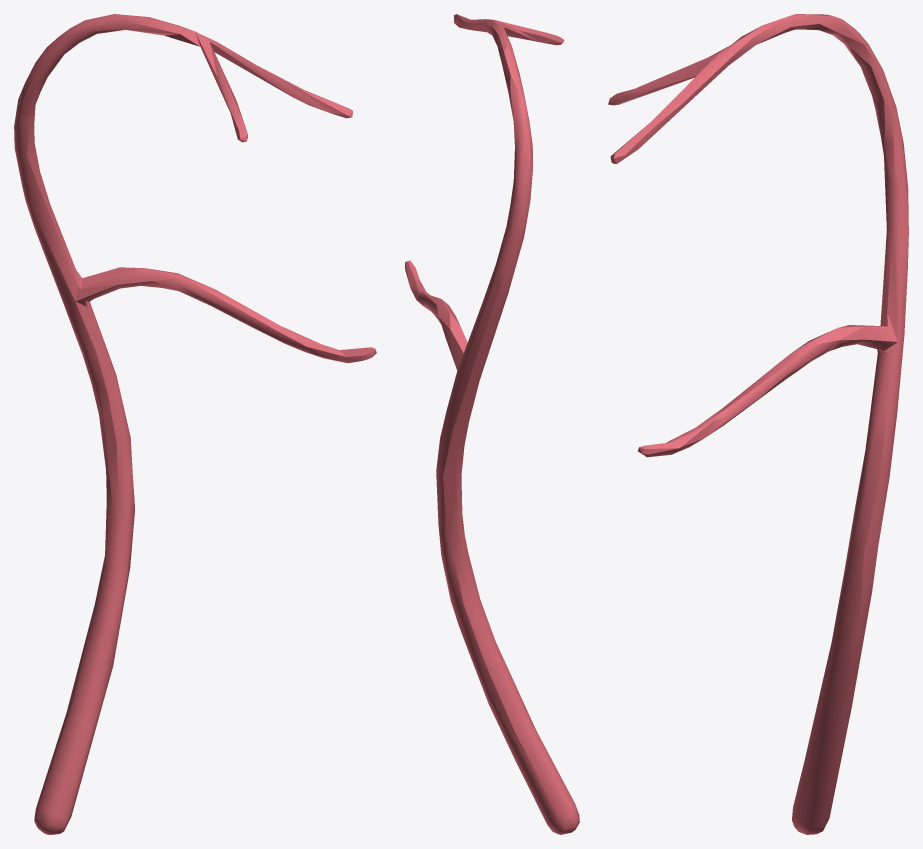
The model's file is fma49629_fj5188.glb.
The picture shows the model from 3 angles, left to right: view 1: azimuth 30°, elevation 25°; view 2: azimuth 150°, elevation 25°; view 3: azimuth 270°, elevation 25°; orthographic projection. The views are drawn at different scales.
Parts seen in each view (by area): view 1: FMA49629_FJ5188; view 2: FMA49629_FJ5188; view 3: FMA49629_FJ5188.
Part boxes in pixels (bbox=[...]): FMA49629_FJ5188: bbox=[14, 14, 376, 834]; FMA49629_FJ5188: bbox=[405, 14, 579, 834]; FMA49629_FJ5188: bbox=[608, 14, 908, 834].
Size of the model in its own units: 0.0129 by 0.0382 by 0.0122.
